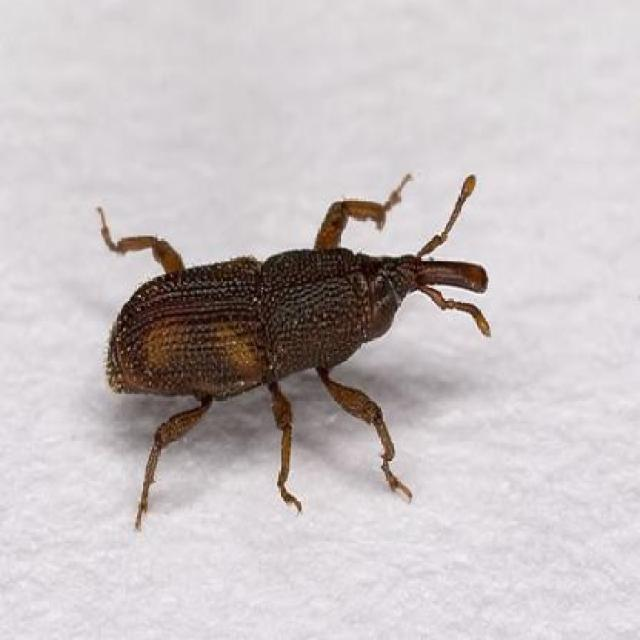rice-bug: (104, 175, 493, 503)
